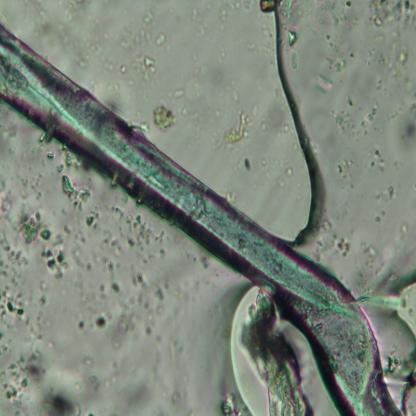Air bubble: (266, 0, 330, 246)
Background material: (89, 266, 151, 350), (0, 348, 52, 416), (26, 382, 86, 416), (213, 105, 255, 148), (122, 6, 160, 49), (122, 213, 166, 250), (365, 0, 416, 29), (0, 238, 31, 285), (14, 205, 52, 243), (384, 347, 416, 392), (394, 278, 416, 343), (58, 173, 91, 209), (160, 385, 195, 416), (27, 292, 49, 339), (309, 234, 352, 258), (277, 0, 307, 32), (263, 107, 294, 135), (150, 104, 180, 132), (41, 248, 69, 278), (0, 182, 18, 228), (376, 186, 396, 227), (0, 290, 24, 324), (330, 110, 357, 140), (130, 54, 158, 82), (376, 51, 400, 79), (98, 228, 122, 255), (219, 389, 242, 416), (102, 72, 121, 100), (397, 122, 416, 148), (355, 292, 398, 303), (63, 151, 86, 170), (360, 240, 375, 268), (225, 0, 257, 13), (354, 271, 372, 293), (317, 0, 331, 28), (317, 70, 334, 93), (370, 147, 386, 170), (310, 215, 333, 231), (362, 105, 378, 127), (332, 7, 350, 26), (336, 158, 353, 178), (29, 178, 44, 200), (237, 155, 254, 174), (154, 284, 165, 313), (68, 0, 94, 12), (0, 123, 17, 141), (394, 43, 408, 64), (84, 211, 100, 229), (191, 0, 200, 31), (258, 0, 277, 14), (286, 28, 298, 49), (34, 133, 51, 147), (74, 52, 89, 67), (154, 33, 170, 47), (50, 230, 63, 246), (328, 42, 341, 58), (398, 221, 407, 244), (196, 254, 208, 270), (171, 86, 187, 98), (373, 260, 385, 276), (53, 160, 66, 174), (364, 48, 374, 66), (289, 50, 299, 68), (323, 53, 333, 70), (334, 60, 348, 72), (230, 89, 242, 103), (60, 223, 71, 238), (404, 79, 415, 93), (44, 146, 54, 161), (218, 8, 228, 22), (345, 94, 355, 108), (198, 21, 206, 38), (178, 104, 189, 116), (76, 318, 88, 329), (117, 61, 126, 75), (284, 166, 294, 178), (376, 78, 384, 92), (376, 33, 386, 44), (112, 208, 123, 218), (249, 40, 258, 52), (219, 45, 226, 60), (84, 259, 92, 271), (157, 247, 165, 259), (258, 123, 268, 132), (105, 262, 112, 271), (409, 103, 416, 112), (345, 0, 352, 8), (349, 48, 354, 59), (349, 179, 354, 189), (411, 91, 416, 101), (396, 29, 401, 37), (364, 128, 368, 136), (326, 36, 331, 41)
Cellulose filter fibre: (244, 296, 314, 416)
Microfibre: (1, 26, 401, 416)
